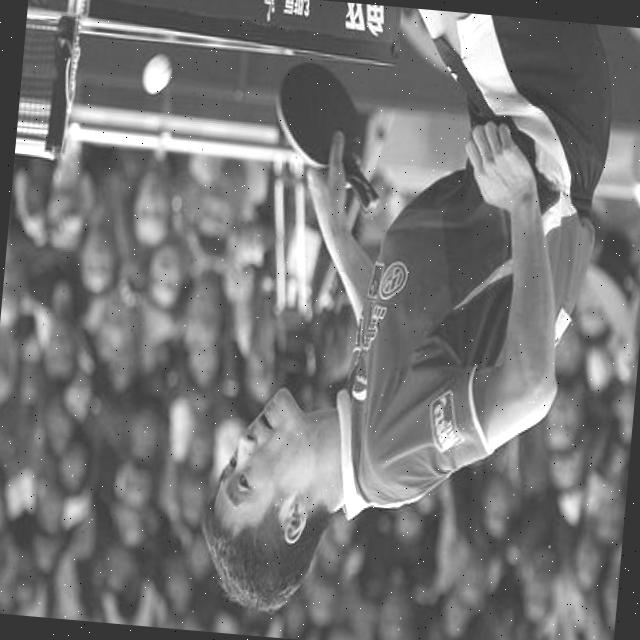ping-pong-ball: (139, 50, 175, 96)
